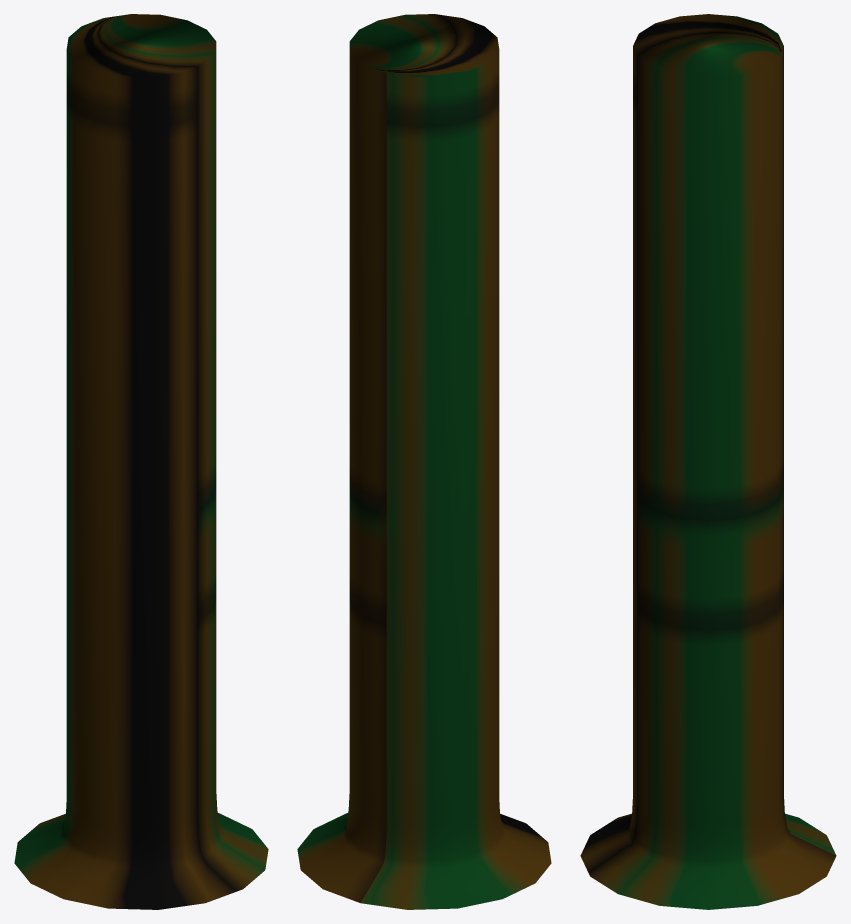
The model's file is Cano5.fbx.
3 views of the same model, side by side, from view 1: azimuth 30°, elevation 25°; view 2: azimuth 150°, elevation 25°; view 3: azimuth 270°, elevation 25° (orthographic).
Visible parts, largest first — view 1: Cylinder.002; view 2: Cylinder.002; view 3: Cylinder.002.
Boxes of the visible parts, left/top/right/bottom form: Cylinder.002: left=14, top=14, right=268, bottom=909; Cylinder.002: left=297, top=14, right=551, bottom=909; Cylinder.002: left=580, top=14, right=836, bottom=909.
Size of the model in its own units: 244 by 852 by 244.
